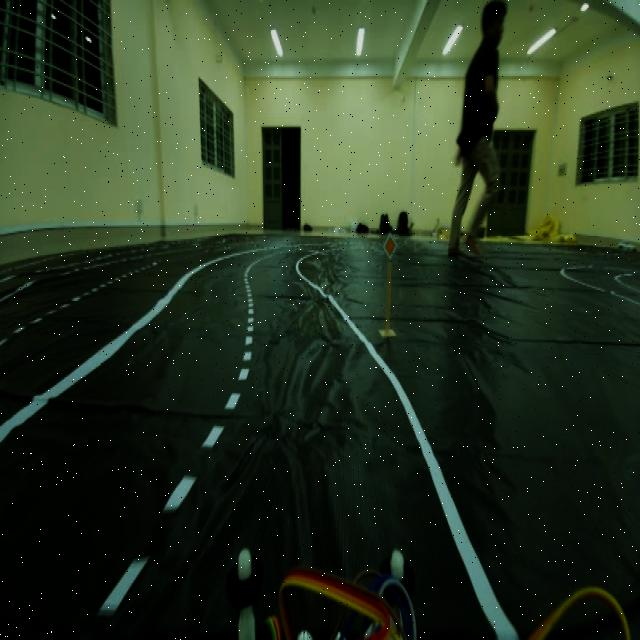priority: (380, 228, 398, 262)
